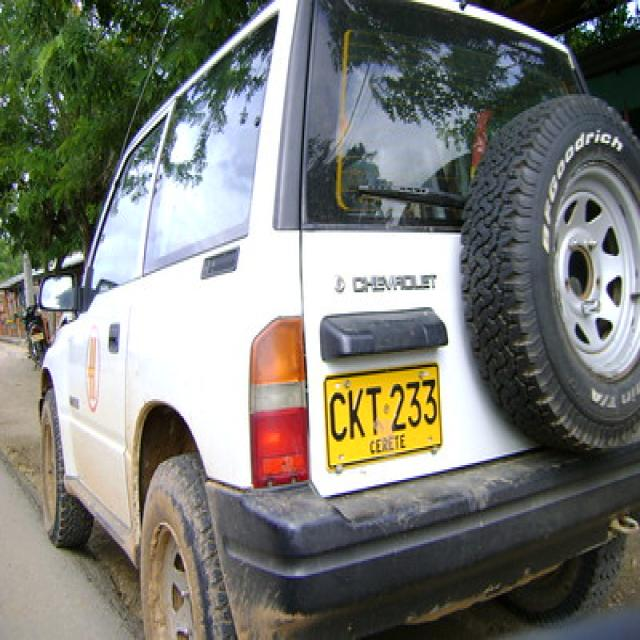placa_carro: (319, 363, 443, 474)
